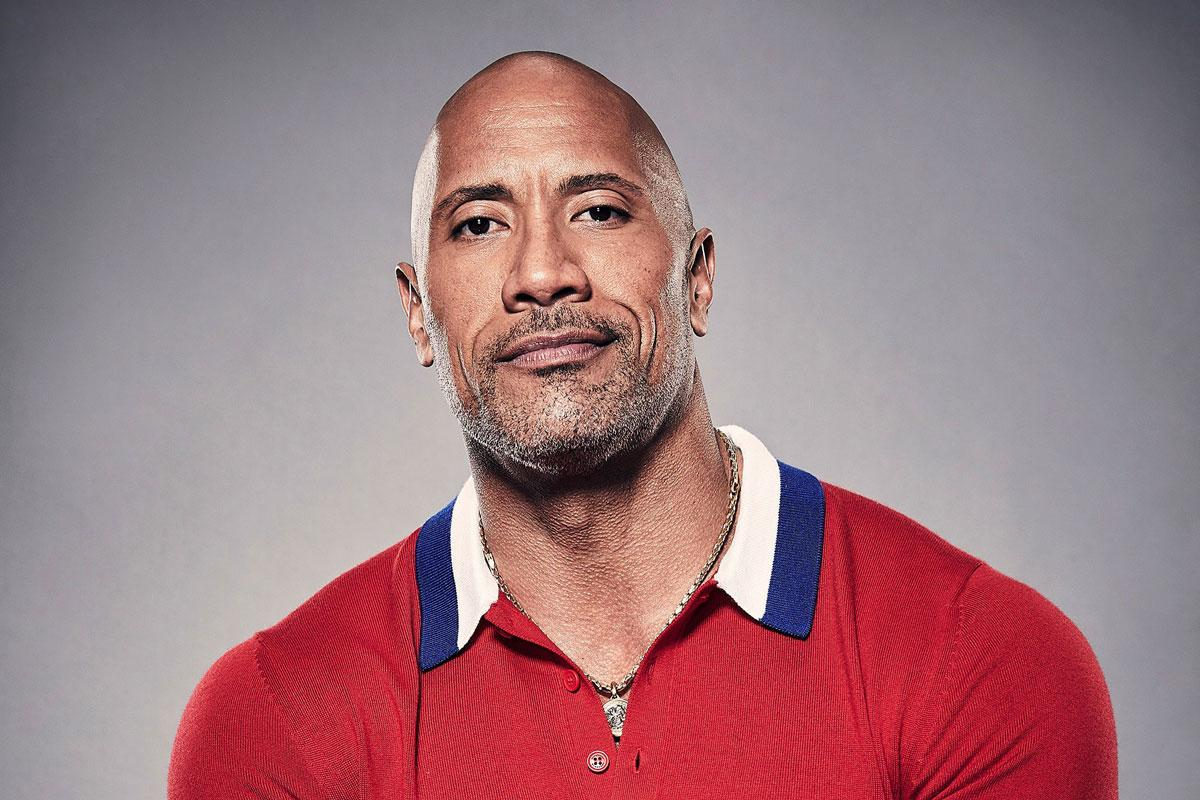Persons: (353, 38, 801, 521)
